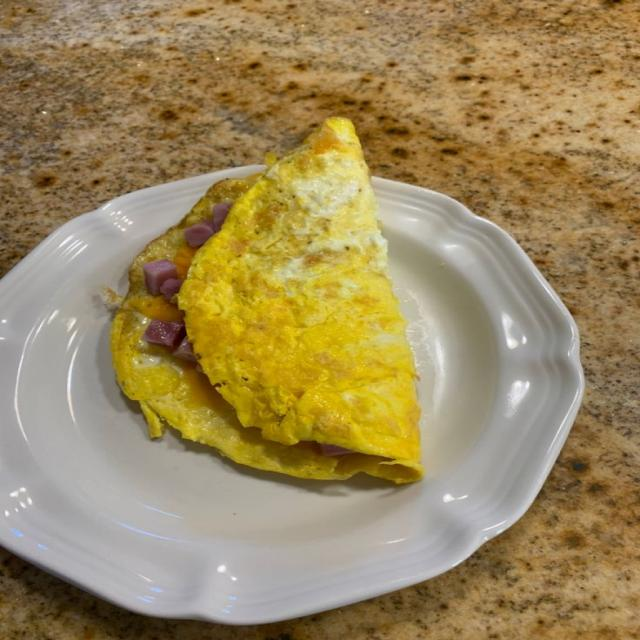omelette: (112, 119, 422, 482)
